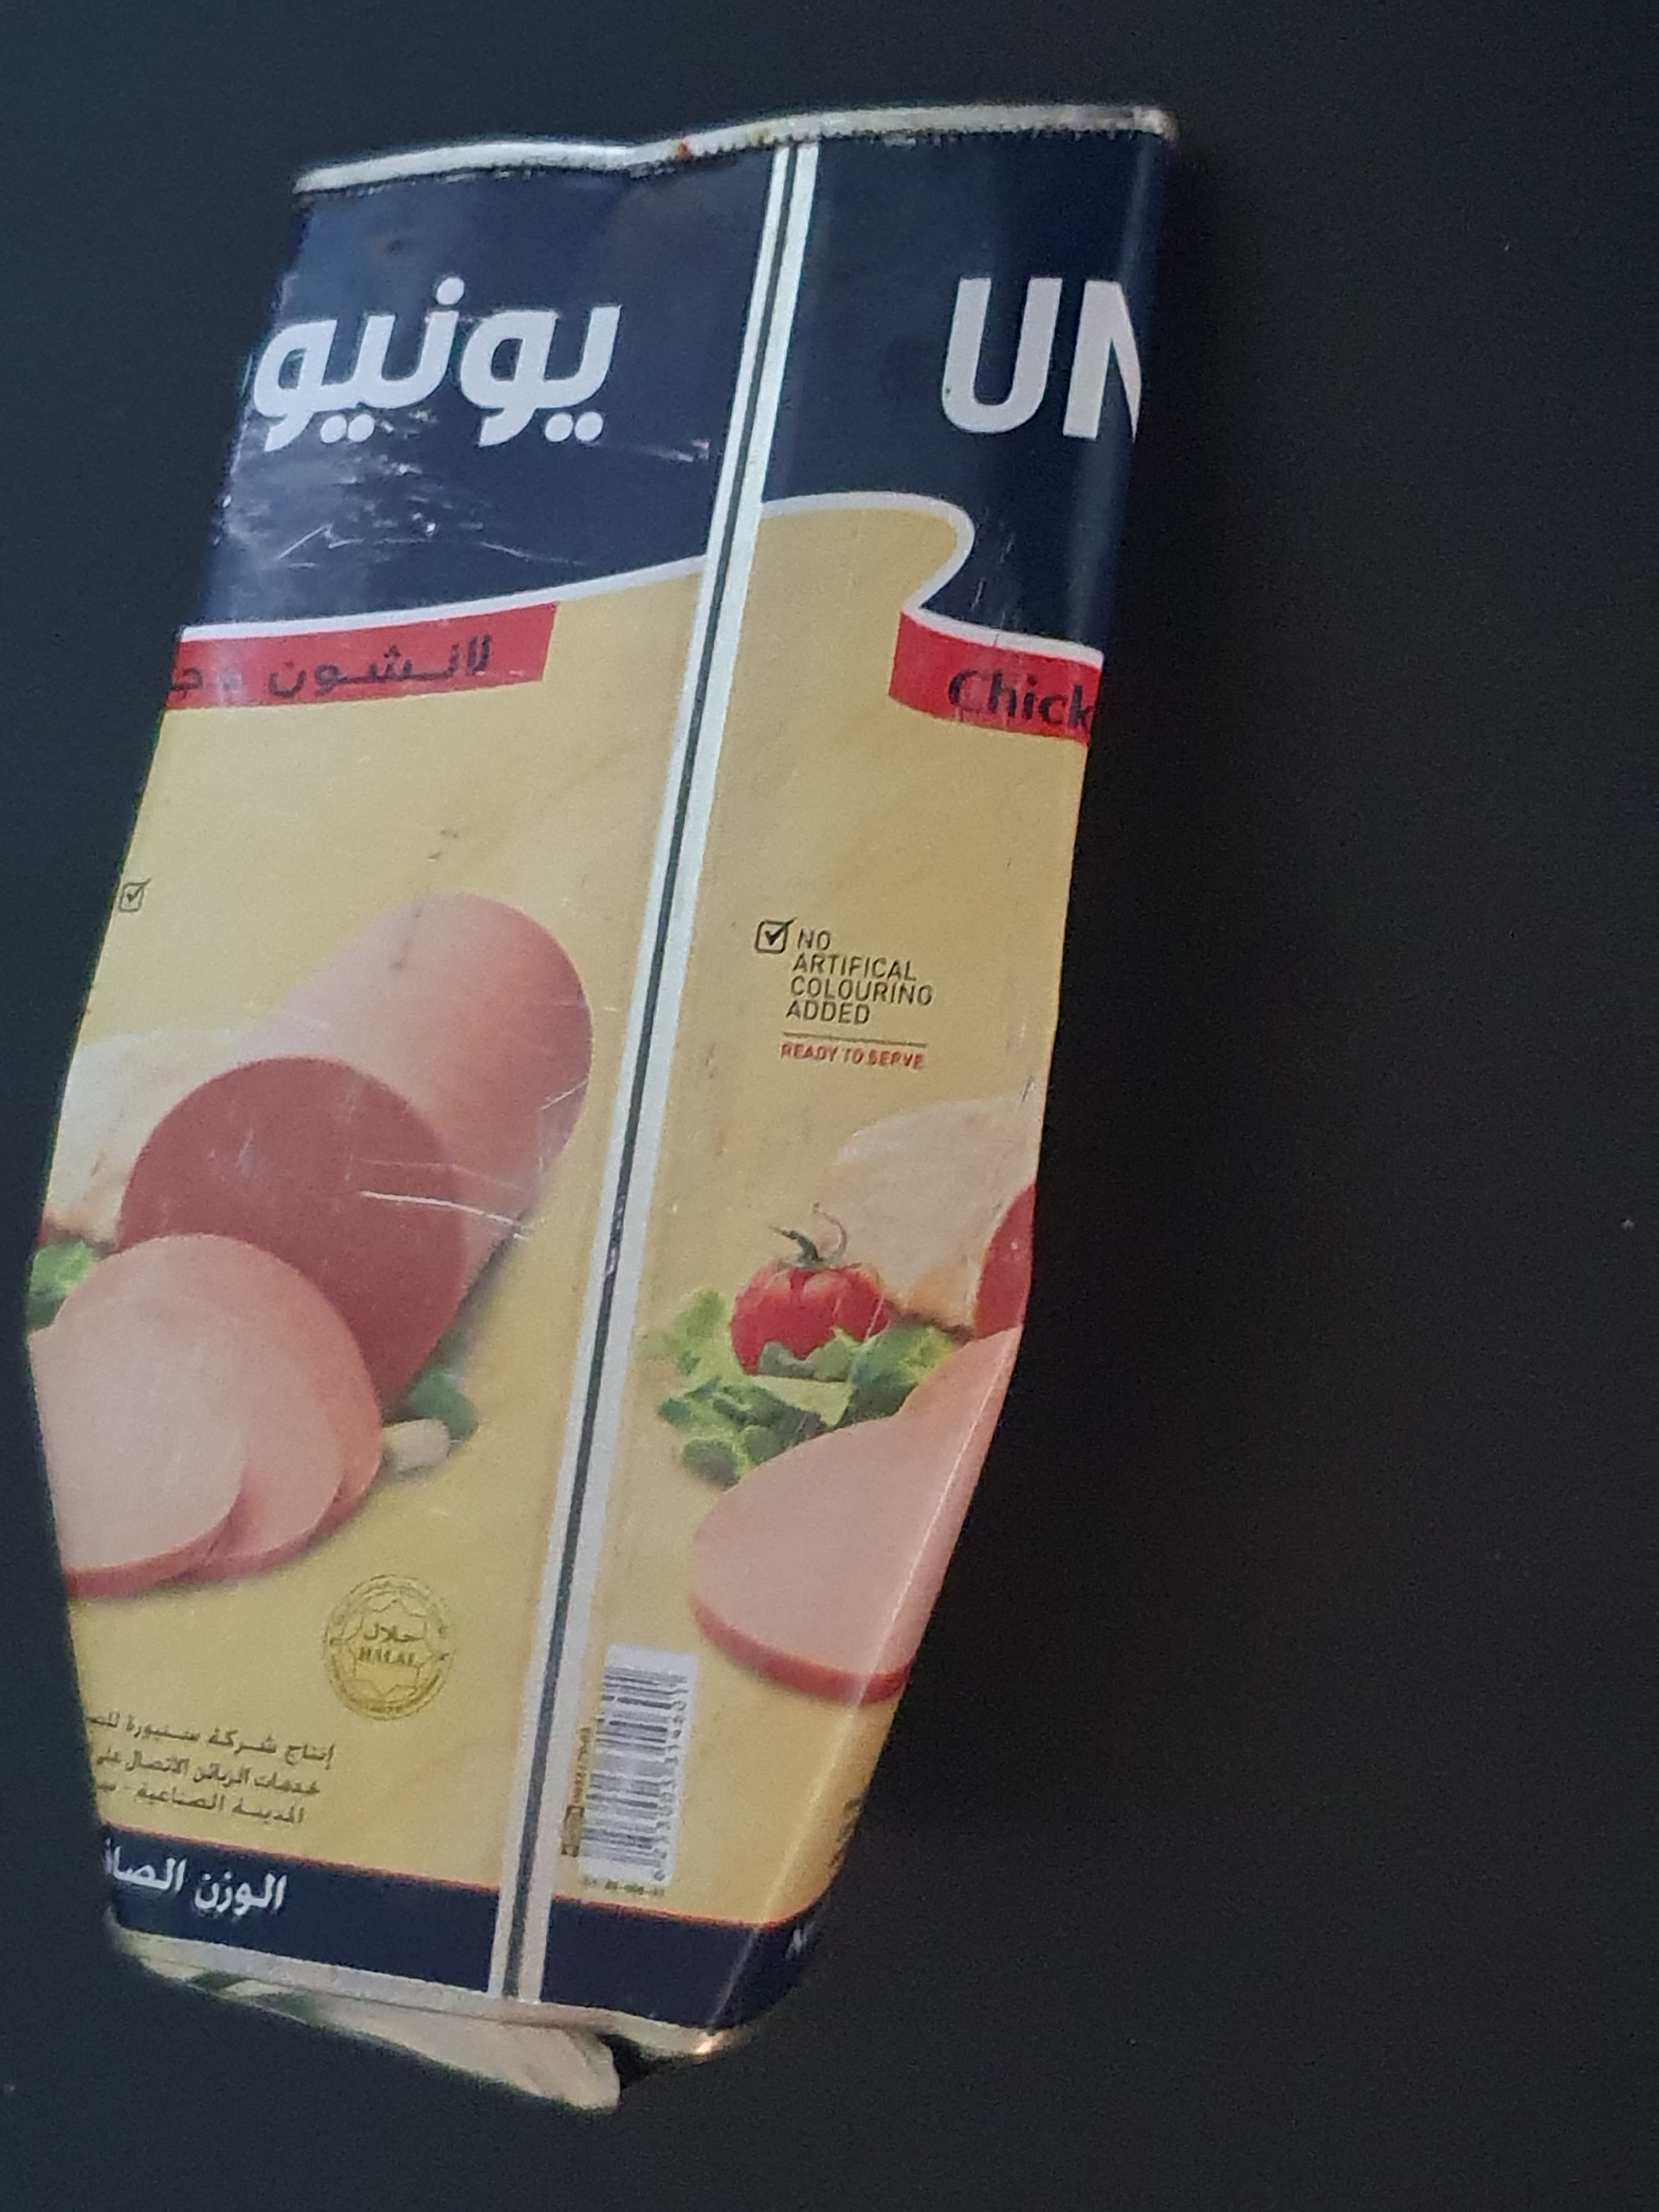metal: (5, 68, 1180, 2156)
